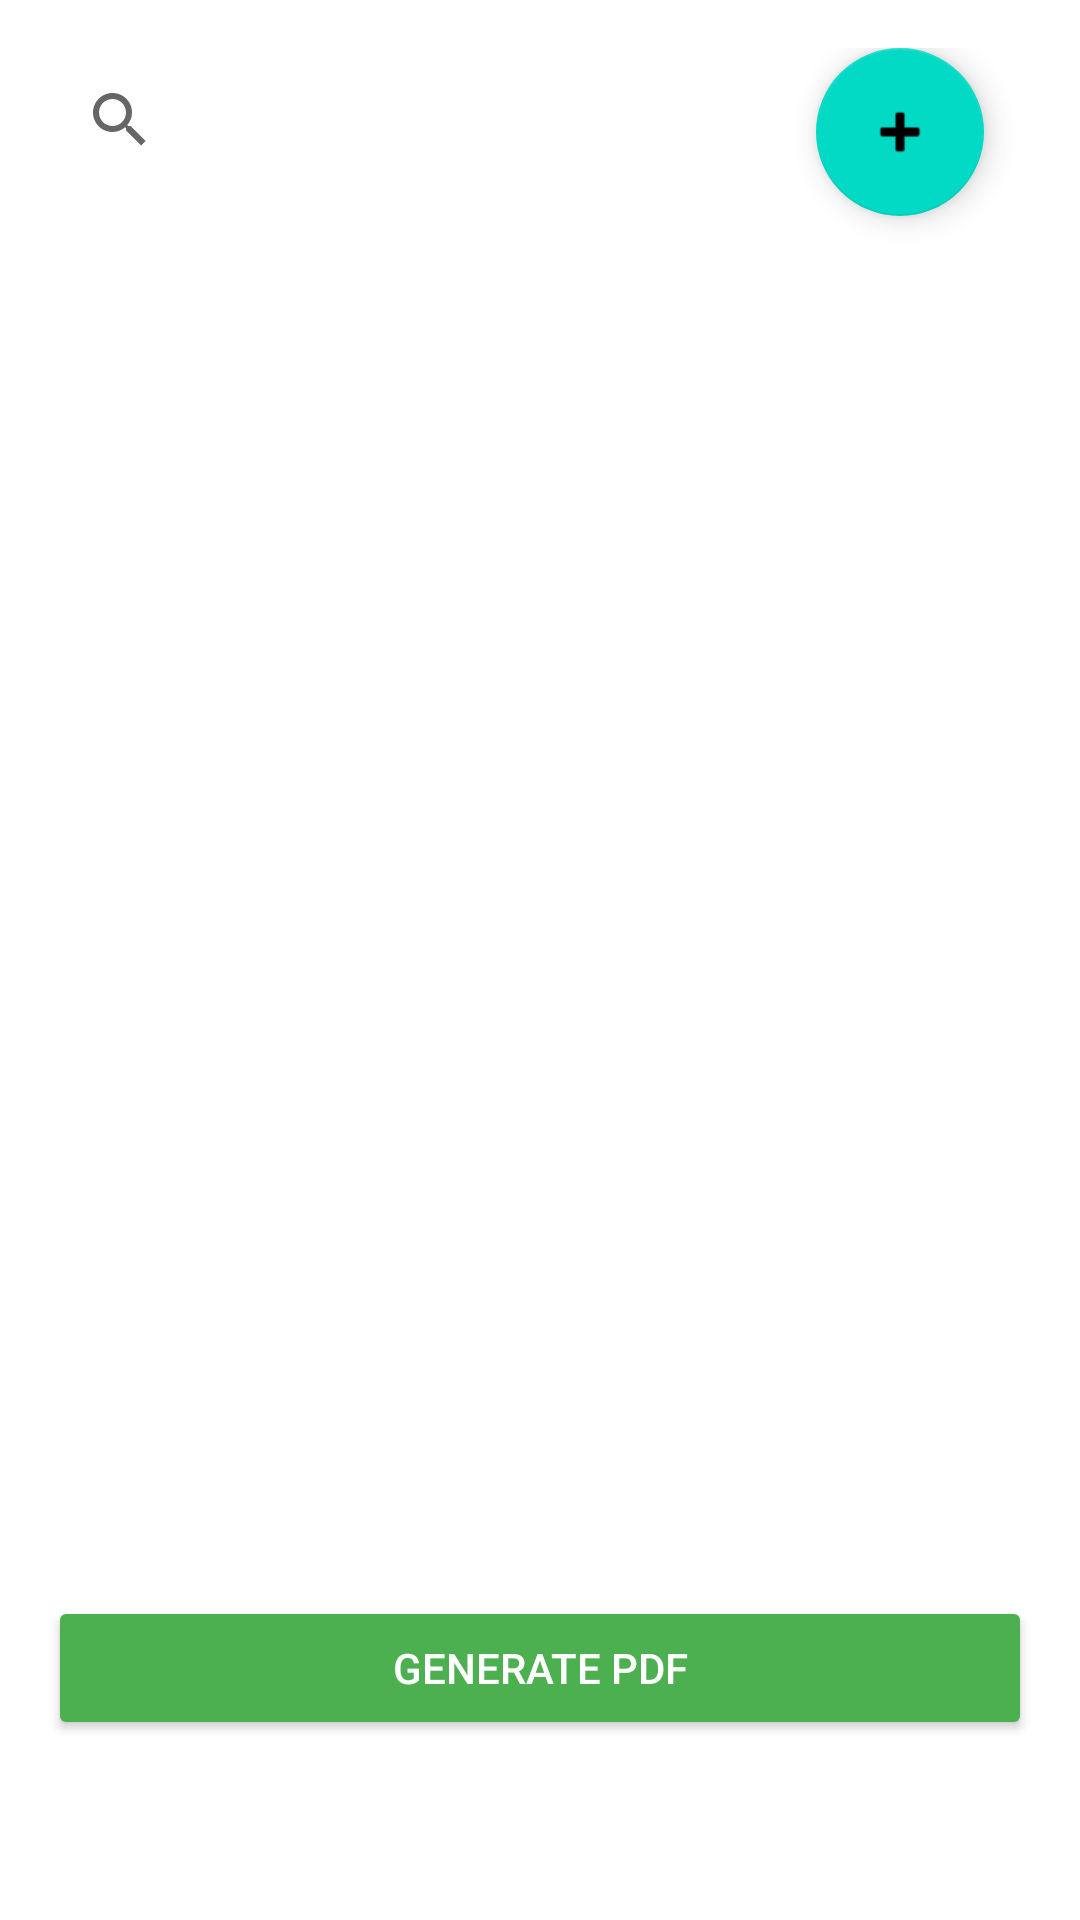

Locate icon controls on the screen. Image size 1080*1920, boxes as detection(x1, y1, x2, y2).
Add new car: detection(816, 48, 984, 216)
